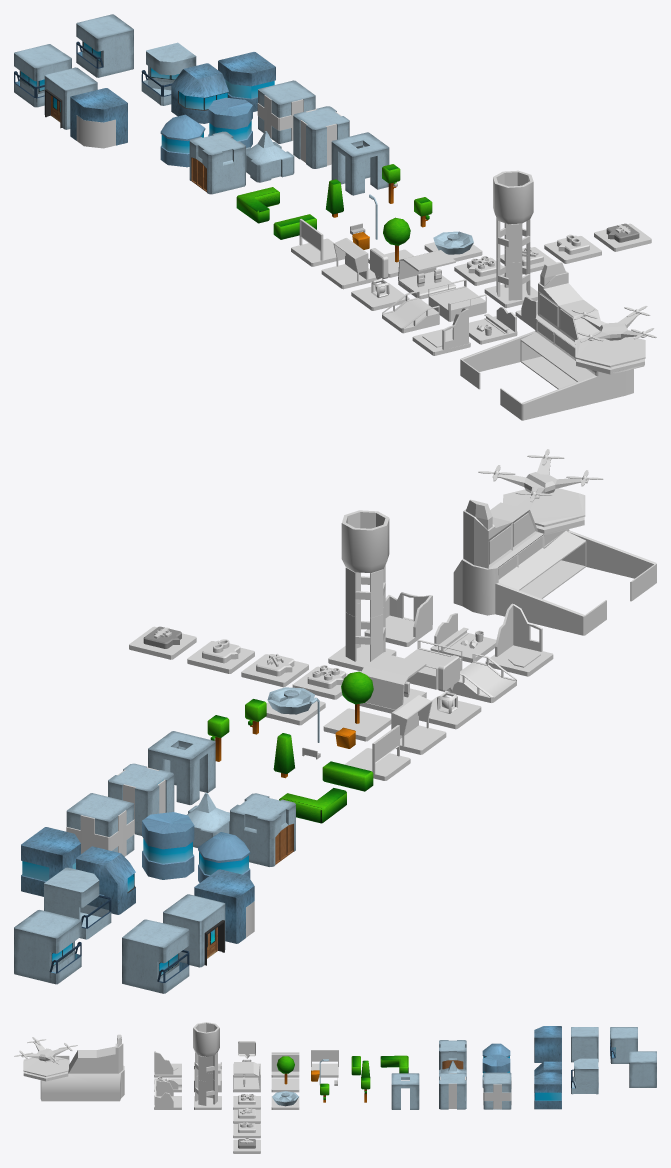
File: parque.FBX
The picture shows the model from 3 angles, top to bottom: view 1: azimuth 30°, elevation 25°; view 2: azimuth 150°, elevation 25°; view 3: azimuth 270°, elevation 25°; orthographic projection. The views are drawn at different scales.
Visible parts, largest first — view 1: ceistalesHQ, BloqueBalcon, basecolumnas, Iglesia, azul2, BloqueBalcon002, BloqueBalcon001, azul1, ventanaI, azulBase, cuba, BloqueBase (+27 smaller); view 2: ceistalesHQ, BloqueBalcon, BloqueBalcon002, basecolumnas, cilindro1, Iglesia, BloqueBalcon001, BloqueBase, azul1, cuba, azul2, ventanaI (+29 smaller); view 3: ceistalesHQ, azul1, BloqueBalcon, azulBase, BloqueBalcon001, BloqueBalcon002, BloqueBase, basecolumnas, cuba, ventanaI, ventanaX, gasolinera (+24 smaller).
Part boxes in pixels (bbox=[...]): ceistalesHQ: bbox=[460, 262, 645, 420]; BloqueBalcon: bbox=[76, 14, 133, 77]; basecolumnas: bbox=[331, 132, 389, 195]; Iglesia: bbox=[189, 131, 245, 194]; azul2: bbox=[171, 63, 228, 123]; BloqueBalcon002: bbox=[14, 44, 71, 107]; BloqueBalcon001: bbox=[141, 42, 196, 105]; azul1: bbox=[218, 52, 275, 111]; ventanaI: bbox=[293, 106, 349, 168]; azulBase: bbox=[70, 88, 127, 145]; cuba: bbox=[493, 170, 533, 224]; BloqueBase: bbox=[44, 67, 97, 129]; ceistalesHQ: bbox=[453, 488, 656, 635]; BloqueBalcon: bbox=[14, 910, 81, 984]; BloqueBalcon002: bbox=[122, 919, 189, 993]; basecolumnas: bbox=[148, 731, 215, 804]; cilindro1: bbox=[142, 812, 194, 879]; Iglesia: bbox=[230, 793, 295, 866]; BloqueBalcon001: bbox=[44, 867, 111, 939]; BloqueBase: bbox=[163, 894, 225, 967]; azul1: bbox=[21, 827, 80, 896]; cuba: bbox=[341, 510, 389, 572]; azul2: bbox=[76, 846, 135, 914]; ventanaI: bbox=[108, 763, 174, 835]; ceistalesHQ: bbox=[23, 1034, 124, 1101]; azul1: bbox=[534, 1072, 561, 1109]; BloqueBalcon: bbox=[629, 1051, 656, 1087]; azulBase: bbox=[534, 1026, 561, 1062]; BloqueBalcon001: bbox=[571, 1058, 598, 1094]; BloqueBalcon002: bbox=[610, 1027, 637, 1063]; BloqueBase: bbox=[571, 1027, 598, 1062]; basecolumnas: bbox=[391, 1073, 419, 1109]; cuba: bbox=[193, 1022, 219, 1056]; ventanaI: bbox=[439, 1072, 466, 1109]; ventanaX: bbox=[483, 1072, 511, 1109]; gasolinera: bbox=[233, 1062, 260, 1089].
Size of the model in its own units: 874 by 302 by 2313.
3 materials, 2 textured.
